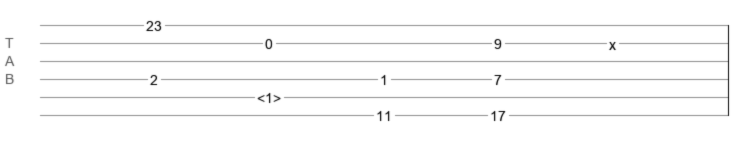0: (265, 36, 273, 46)
1: (380, 72, 388, 82)
11: (376, 108, 392, 118)
17: (490, 108, 506, 118)
2: (150, 72, 158, 82)
23: (146, 18, 162, 28)
7: (494, 72, 502, 82)
9: (494, 36, 502, 46)
harmonic: (257, 90, 281, 100)
x: (609, 37, 616, 45)
